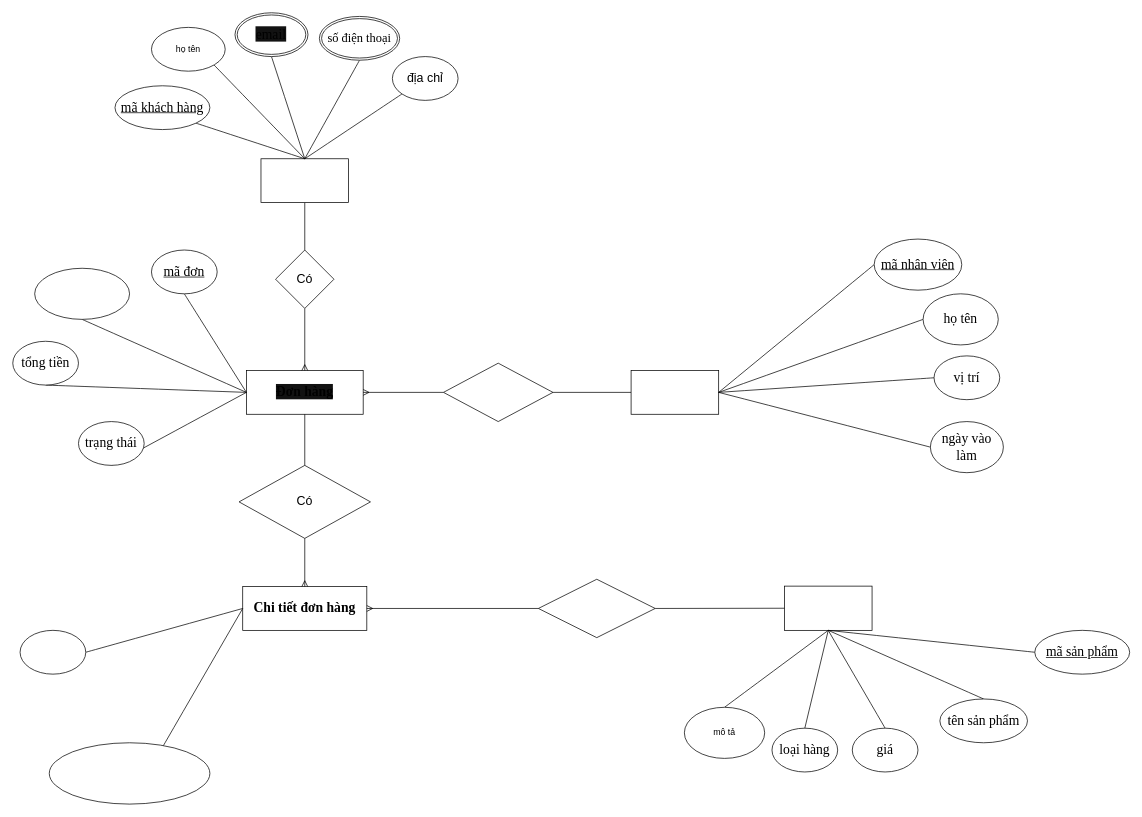
Some shapes in this 1142 by 817 pixel diagram are drawn without their labels. The shapes that lost their labels are listed below. From the top down, each one's centre as x and y in pixels, then its label:
At point 304,180: "Khách hàng".
At point 82,293: "ngày đặt hàng".
At point 498,392: "Phụ trách".
At point 674,392: "Nhân viên".
At point 596,608: "Thuộc về".
At point 828,607: "Sản phẩm".
At point 52,652: "số lượng".
At point 129,773: "đơn giá tại thời điểm mua".
